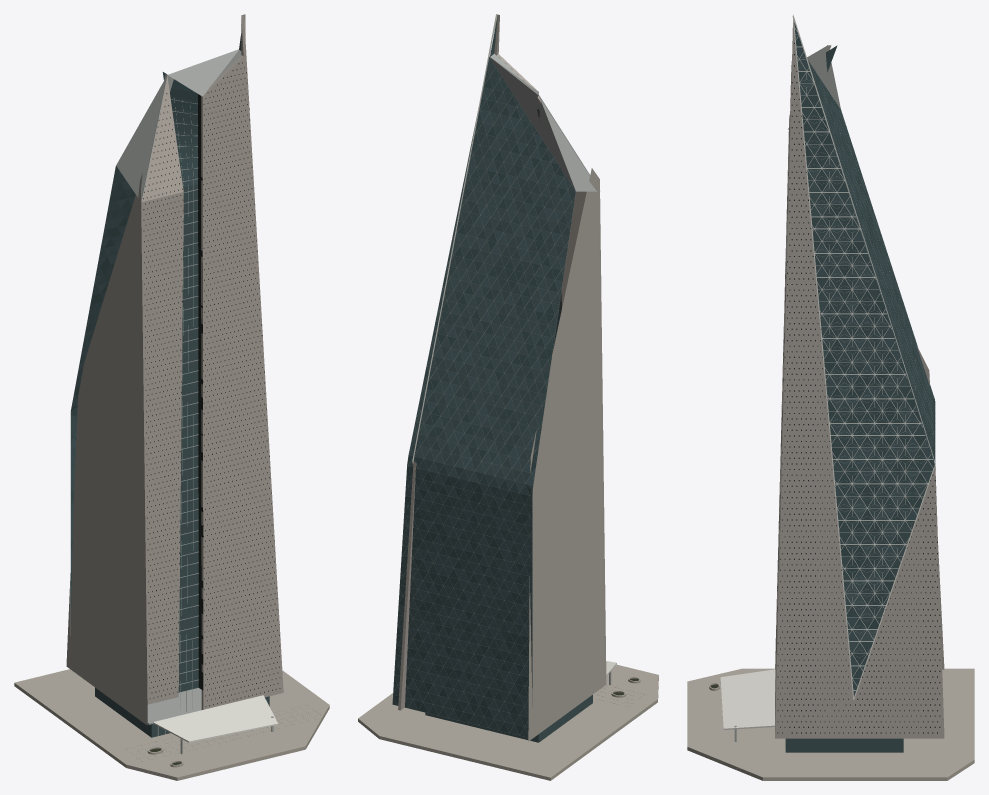
File: Burj-AlMana.glb
3 views of the same model, side by side, from view 1: azimuth 30°, elevation 25°; view 2: azimuth 150°, elevation 25°; view 3: azimuth 270°, elevation 25° (orthographic). The views are drawn at different scales.
Parts seen in each view (by area): view 1: Street wing | broad tapering stone blade, West | solid tapering flank, Street wing | slender west stone blade, Podium | chamfered granite plaza, Street cleft | recessed glazed wall, Rear | faceted blue glass curtain wall, Street wing | small staggered aperture array east, Crown | closed folded roof, Podium | folded projecting porte cochere, Street cleft | floor transoms and mullions, Street cleft | deep bronze reveal.001, Street wing | small staggered aperture array west (+3 smaller); view 2: Rear | faceted blue glass curtain wall, West | solid tapering flank, Podium | chamfered granite plaza, Rear | triangular glazing joints, Crown | closed folded roof, Street wing | slender west stone blade, Seaward return | triangular stone wedge, Podium | recessed glass lobby, Sail | continuous silver perimeter; view 3: Sail | individually articulated triangular glazing, Seaward edge | tall triangular stone blade, Seaward return | triangular stone wedge, Podium | chamfered granite plaza, Sail | white triangular structural lattice, Rear | faceted blue glass curtain wall, Podium | folded projecting porte cochere, Seaward edge | staggered aperture array, Sail | continuous silver perimeter, Sail | fine star subdivision braces, Podium | recessed glass lobby, Seaward return | small staggered aperture array (+3 smaller).
Part boxes in pixels (left/top/right/bottom): Street wing | broad tapering stone blade: left=201, top=54, right=280, bottom=709; West | solid tapering flank: left=66, top=173, right=147, bottom=725; Street wing | slender west stone blade: left=139, top=74, right=183, bottom=704; Podium | chamfered granite plaza: left=14, top=669, right=329, bottom=780; Street cleft | recessed glazed wall: left=170, top=88, right=198, bottom=692; Rear | faceted blue glass curtain wall: left=71, top=166, right=135, bottom=622; Street wing | small staggered aperture array east: left=203, top=62, right=280, bottom=706; Crown | closed folded roof: left=116, top=49, right=241, bottom=200; Podium | folded projecting porte cochere: left=153, top=695, right=278, bottom=742; Street cleft | floor transoms and mullions: left=170, top=97, right=198, bottom=711; Street cleft | deep bronze reveal.001: left=198, top=94, right=203, bottom=690; Street wing | small staggered aperture array west: left=143, top=93, right=183, bottom=698; Rear | faceted blue glass curtain wall: left=392, top=57, right=575, bottom=737; West | solid tapering flank: left=528, top=168, right=606, bottom=741; Podium | chamfered granite plaza: left=358, top=664, right=658, bottom=780; Rear | triangular glazing joints: left=392, top=57, right=575, bottom=737; Crown | closed folded roof: left=489, top=53, right=597, bottom=191; Street wing | slender west stone blade: left=537, top=96, right=606, bottom=665; Seaward return | triangular stone wedge: left=398, top=462, right=416, bottom=710; Podium | recessed glass lobby: left=425, top=695, right=592, bottom=742; Sail | continuous silver perimeter: left=412, top=14, right=497, bottom=463; Sail | individually articulated triangular glazing: left=794, top=23, right=934, bottom=696; Seaward edge | tall triangular stone blade: left=775, top=15, right=852, bottom=738; Seaward return | triangular stone wedge: left=775, top=466, right=944, bottom=738; Podium | chamfered granite plaza: left=687, top=668, right=974, bottom=780; Sail | white triangular structural lattice: left=794, top=22, right=933, bottom=690; Rear | faceted blue glass curtain wall: left=808, top=60, right=935, bottom=470; Podium | folded projecting porte cochere: left=720, top=669, right=774, bottom=729; Seaward edge | staggered aperture array: left=777, top=43, right=848, bottom=733; Sail | continuous silver perimeter: left=792, top=15, right=935, bottom=699; Sail | fine star subdivision braces: left=800, top=72, right=928, bottom=657; Podium | recessed glass lobby: left=785, top=738, right=903, bottom=752; Seaward return | small staggered aperture array: left=791, top=474, right=940, bottom=733.
Size of the model in its own units: 85 by 266 by 95.
